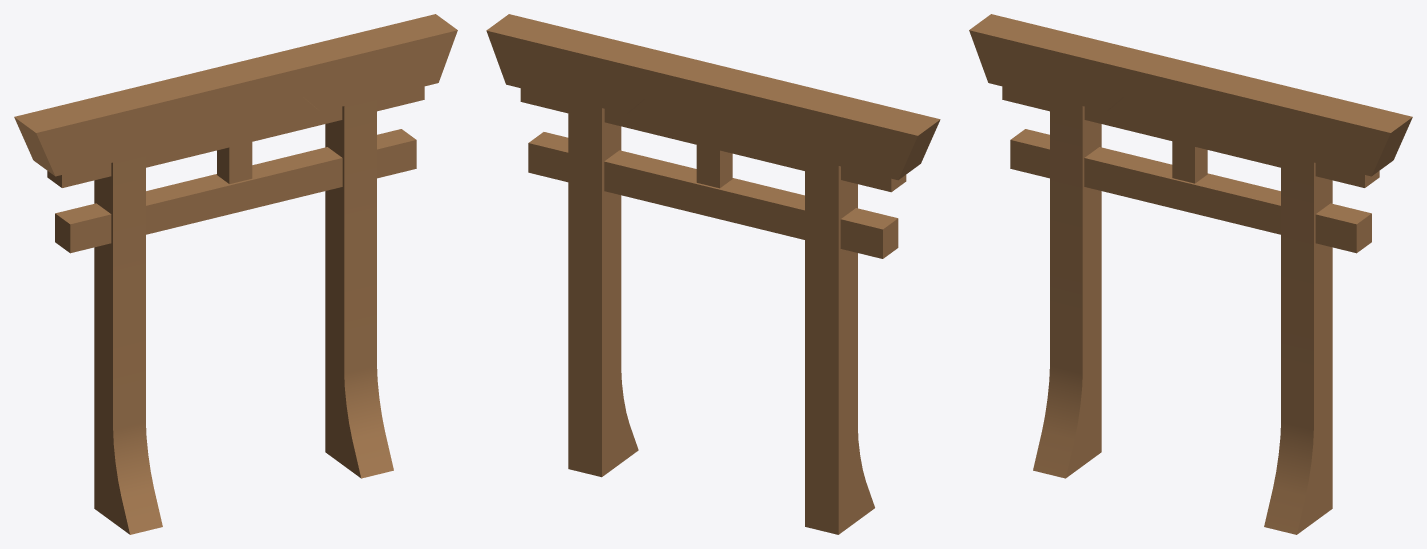
Rendered from japan.glb.
The picture shows the model from 3 angles, left to right: view 1: azimuth 30°, elevation 25°; view 2: azimuth 150°, elevation 25°; view 3: azimuth 330°, elevation 25°; orthographic projection. The views are drawn at different scales.
Parts seen in each view (by area): view 1: Environment_ToriiGate; view 2: Environment_ToriiGate; view 3: Environment_ToriiGate.
Boxes of the visible parts, x1,y1,x2,y2 form: Environment_ToriiGate: (14,14,457,534); Environment_ToriiGate: (486,14,940,534); Environment_ToriiGate: (969,14,1412,534).
Bounding box in the file's own units: 5.73 × 5.32 × 0.8752.
Materials: 1 (1 with a texture image).
